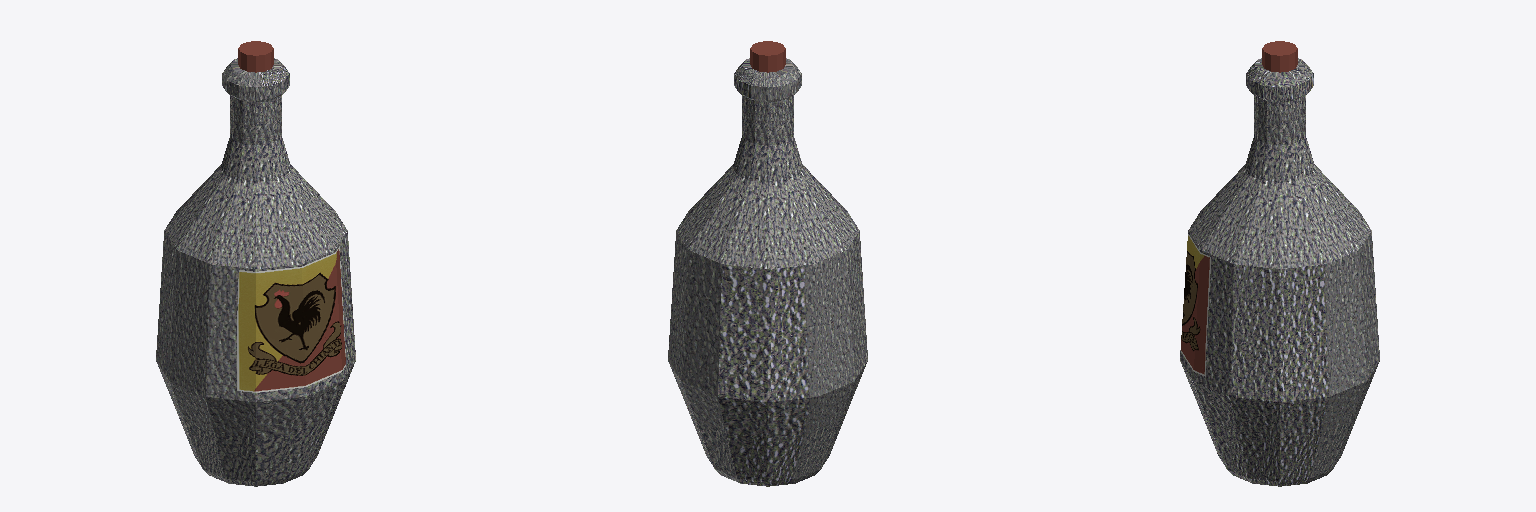
3 views of the same model, side by side, from view 1: azimuth 30°, elevation 25°; view 2: azimuth 150°, elevation 25°; view 3: azimuth 270°, elevation 25° (orthographic).
Parts seen in each view (by area): view 1: Default_Layer; view 2: Default_Layer; view 3: Default_Layer.
Boxes of the visible parts, x1,y1,x2,y2 form: Default_Layer: [156, 41, 355, 486]; Default_Layer: [668, 41, 867, 486]; Default_Layer: [1180, 41, 1379, 486].
Bounding box in the file's own units: 0.6986 × 1.6 × 0.6986.
1 materials, 1 textured.